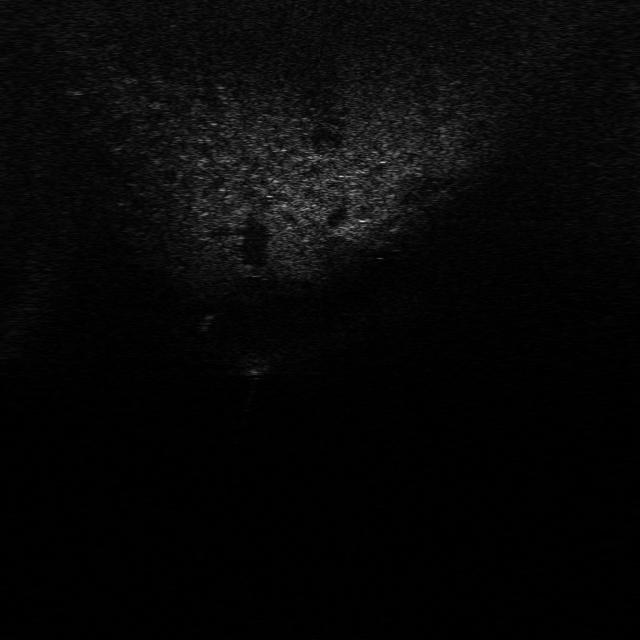cube: (233, 345, 278, 376)
